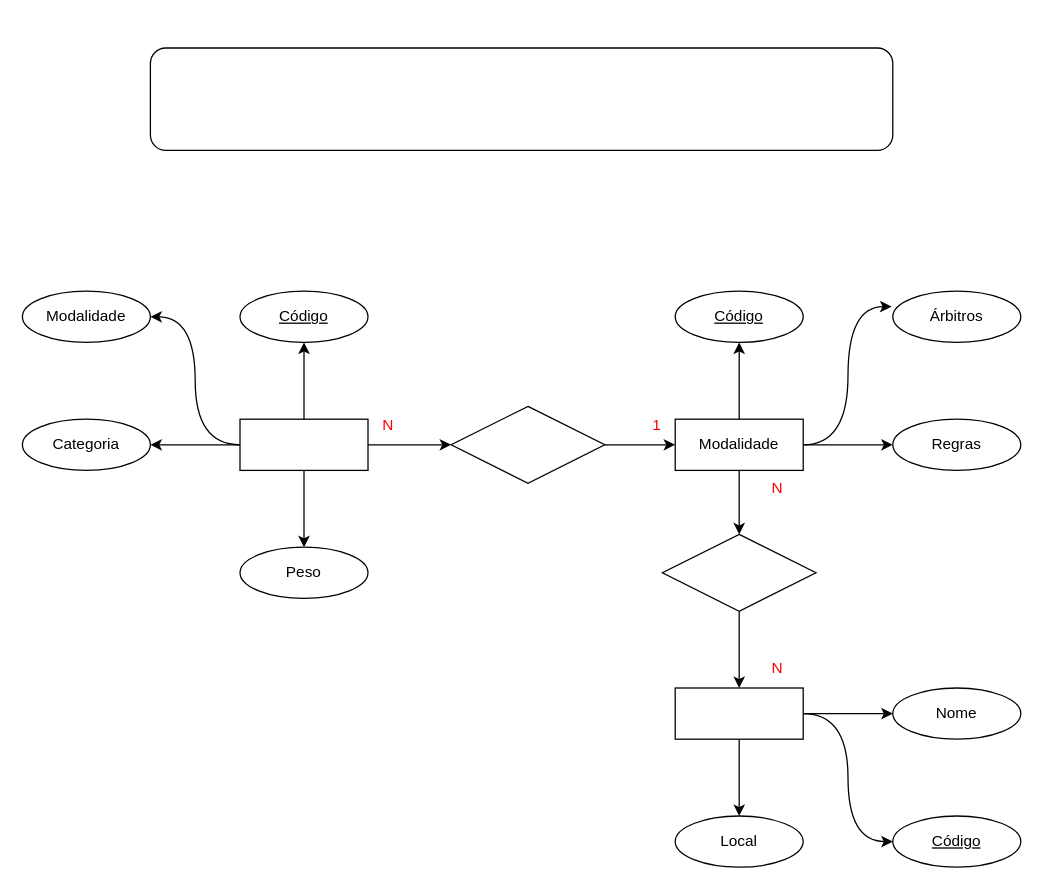
Some shapes in this 1043 by 890 pixel diagram are drawn without their labels. Here are the shapes that lost their labels. From the top down, the centre of each, then its label:
point (521, 98): Diagrama - Exercício 7, Slide 2
point (303, 444): Atleta
point (527, 444): Inscreve-se
point (738, 572): Compete
point (738, 713): Campeonato
